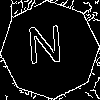N: (25, 25, 65, 74)
